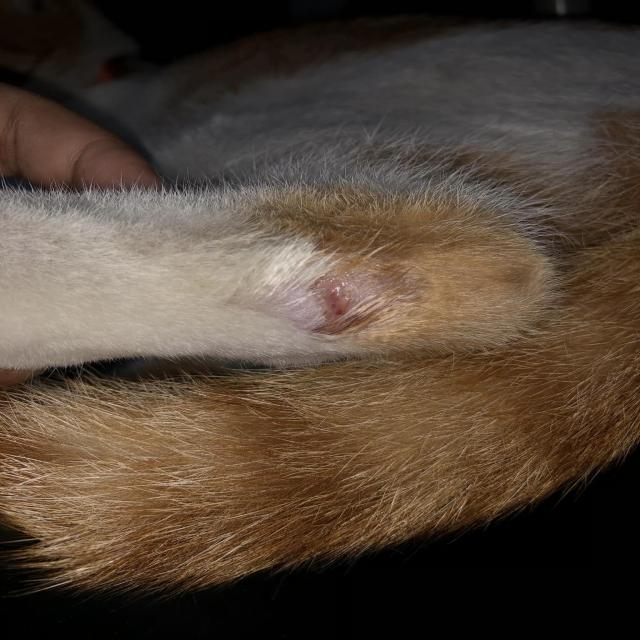Ringworm: (302, 275, 379, 327)
